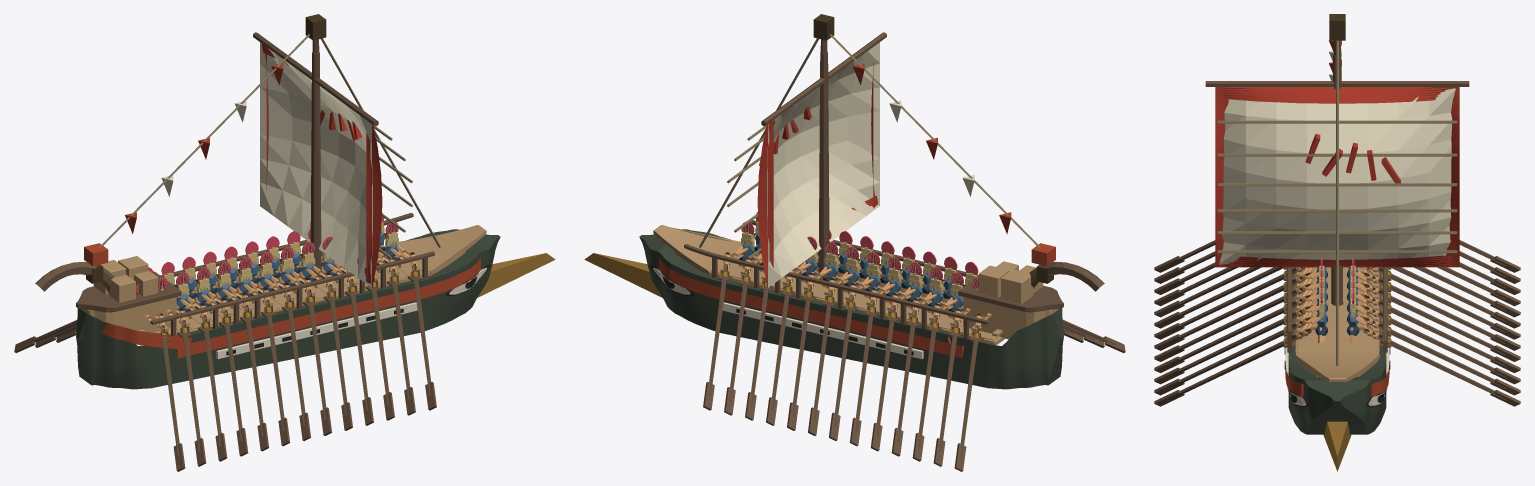
Rendered from warship-battle-v7.glb.
3 renders of one model, left to right at view 1: azimuth 30°, elevation 25°; view 2: azimuth 150°, elevation 25°; view 3: azimuth 270°, elevation 25°, orthographic. The views are drawn at different scales.
Parts seen in each view (by area): view 1: sail, hull-low, n27, mast, n295, Bow transfer deck, n281, n253, n283, n31, hull-prow, n29 (+5 smaller); view 2: sail, hull-low, n3, mast, n293, n281, Bow transfer deck, n233, n7, n283, hull-prow, n289 (+7 smaller); view 3: sail, hull-low, n297, n299, n293, n295, n289, Bow transfer deck, n325, n301, n303, n305 (+27 smaller).
Boxes of the visible parts, box(x1,y1,x2,y2) form: sail: box(260, 42, 372, 287); hull-low: box(76, 229, 500, 389); n27: box(176, 258, 480, 358); mast: box(310, 52, 321, 276); n295: box(366, 125, 382, 285); Bow transfer deck: box(397, 225, 486, 274); n281: box(81, 297, 176, 332); n253: box(150, 251, 434, 324); n283: box(76, 271, 181, 312); n31: box(216, 302, 417, 358); hull-prow: box(477, 253, 555, 297); n29: box(101, 322, 191, 348); sail: box(767, 42, 879, 287); hull-low: box(639, 229, 1063, 389); n3: box(659, 258, 963, 358); mast: box(818, 52, 829, 278); n293: box(757, 120, 773, 285); n281: box(963, 297, 1058, 339); Bow transfer deck: box(653, 225, 742, 274); n233: box(684, 244, 989, 324); n7: box(722, 302, 923, 358); n283: box(958, 276, 1063, 312); hull-prow: box(584, 253, 662, 297); n289: box(761, 32, 886, 126); sail: box(1219, 88, 1455, 264); hull-low: box(1288, 285, 1386, 434); n297: box(1223, 87, 1454, 103); n299: box(1215, 255, 1451, 267); n293: box(1446, 87, 1459, 267); n295: box(1215, 87, 1228, 266); n289: box(1205, 81, 1469, 86); Bow transfer deck: box(1294, 354, 1380, 381); n325: box(1336, 40, 1338, 365); n301: box(1217, 250, 1457, 253); n303: box(1217, 231, 1457, 234); n305: box(1217, 209, 1457, 212).
Size of the model in its own units: 6.7 by 4.2 by 3.75.
